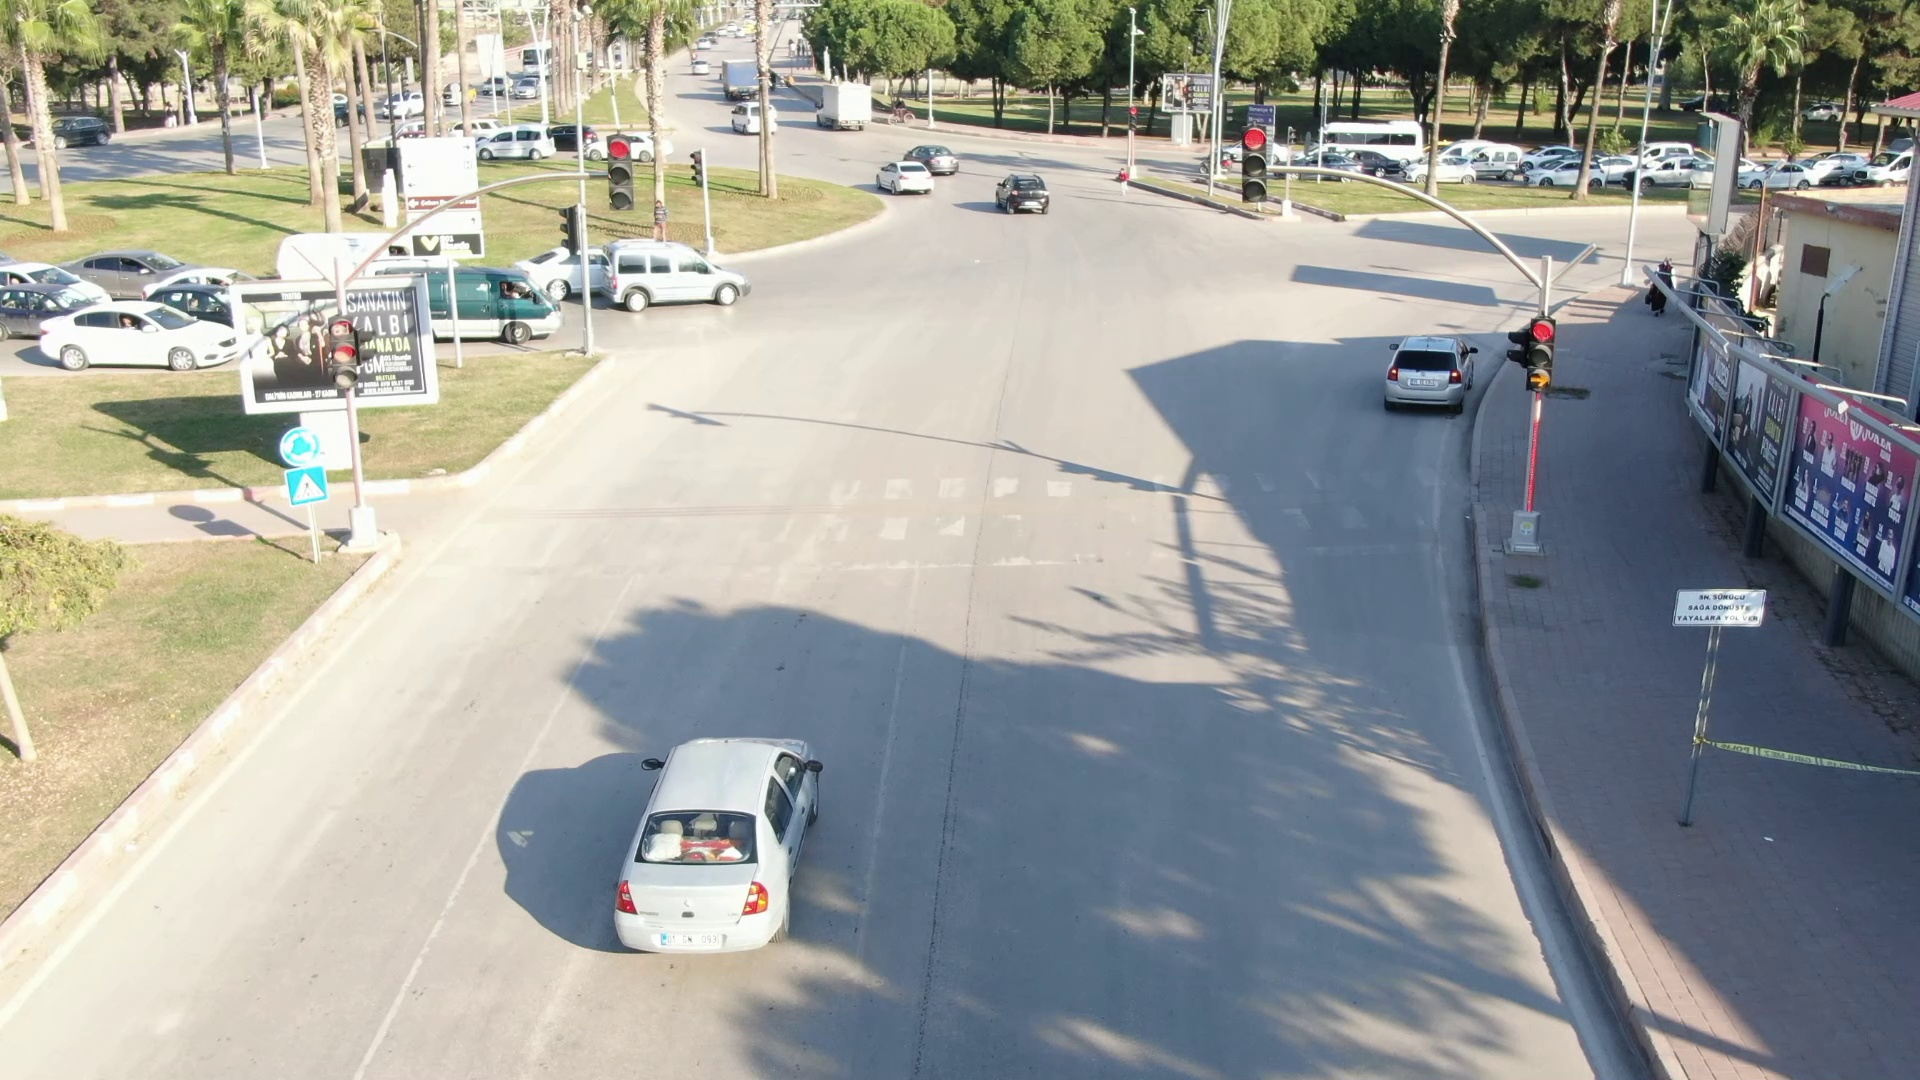car: (564, 678, 873, 963), (34, 284, 240, 397), (588, 229, 765, 336), (1360, 302, 1493, 443), (858, 154, 942, 200)
